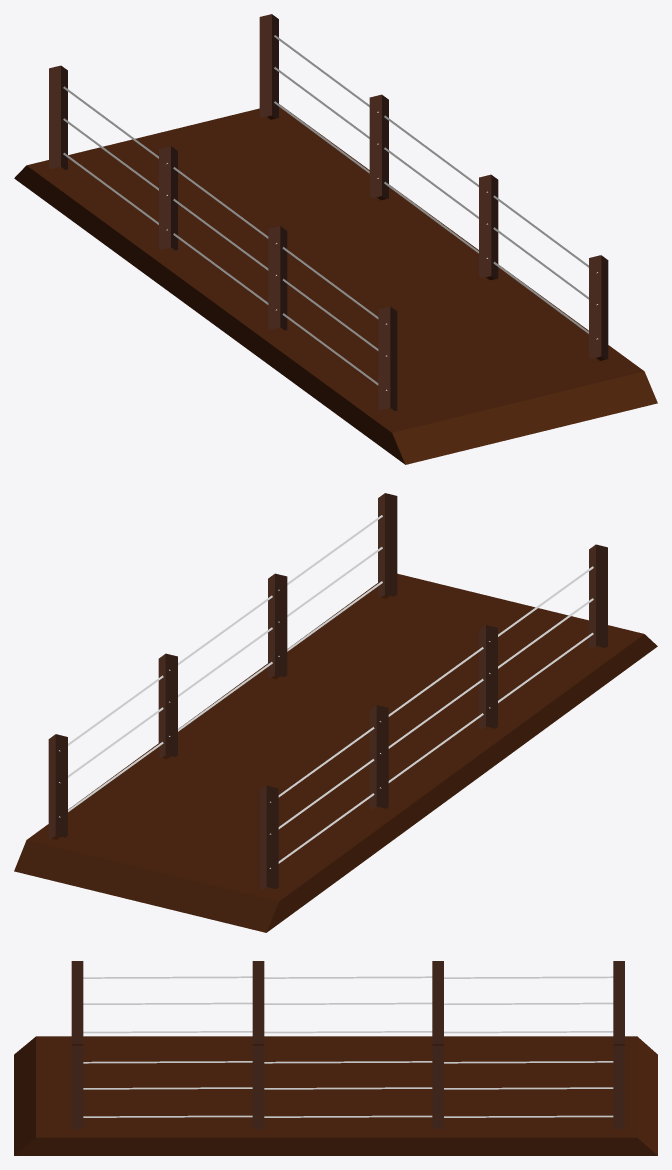
The model's file is Bridge.fbx.
3 renders of one model, top to bottom at view 1: azimuth 30°, elevation 25°; view 2: azimuth 150°, elevation 25°; view 3: azimuth 270°, elevation 25°, orthographic. The views are drawn at different scales.
Parts seen in each view (by area): view 1: Cube; view 2: Cube; view 3: Cube.
Part boxes in pixels (x1,y1,x2,y2): Cube: [14, 14, 657, 464]; Cube: [14, 493, 657, 932]; Cube: [14, 961, 657, 1155].
Bounding box in the file's own units: 196 × 89.75 × 526.
